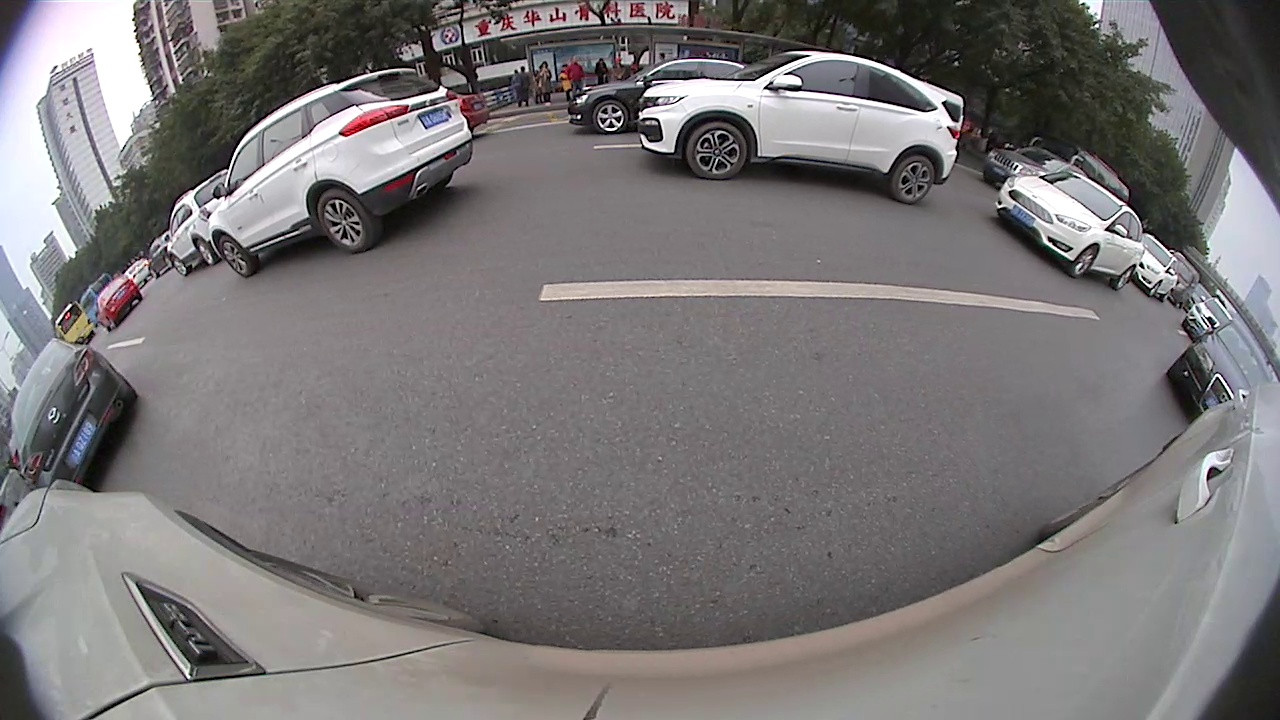car: (206, 67, 476, 277), (635, 48, 959, 202), (10, 338, 136, 493), (994, 171, 1144, 293), (566, 59, 753, 133), (1166, 318, 1267, 419), (167, 171, 237, 275), (980, 146, 1084, 194), (1130, 233, 1177, 299), (91, 275, 143, 334)
front: (687, 124, 748, 179), (216, 237, 254, 276), (591, 99, 628, 134), (1068, 247, 1099, 278), (170, 253, 191, 274), (1147, 282, 1161, 298)
rear: (316, 188, 371, 254), (890, 154, 934, 205), (1111, 265, 1133, 292), (196, 240, 216, 268), (1161, 290, 1173, 304)
